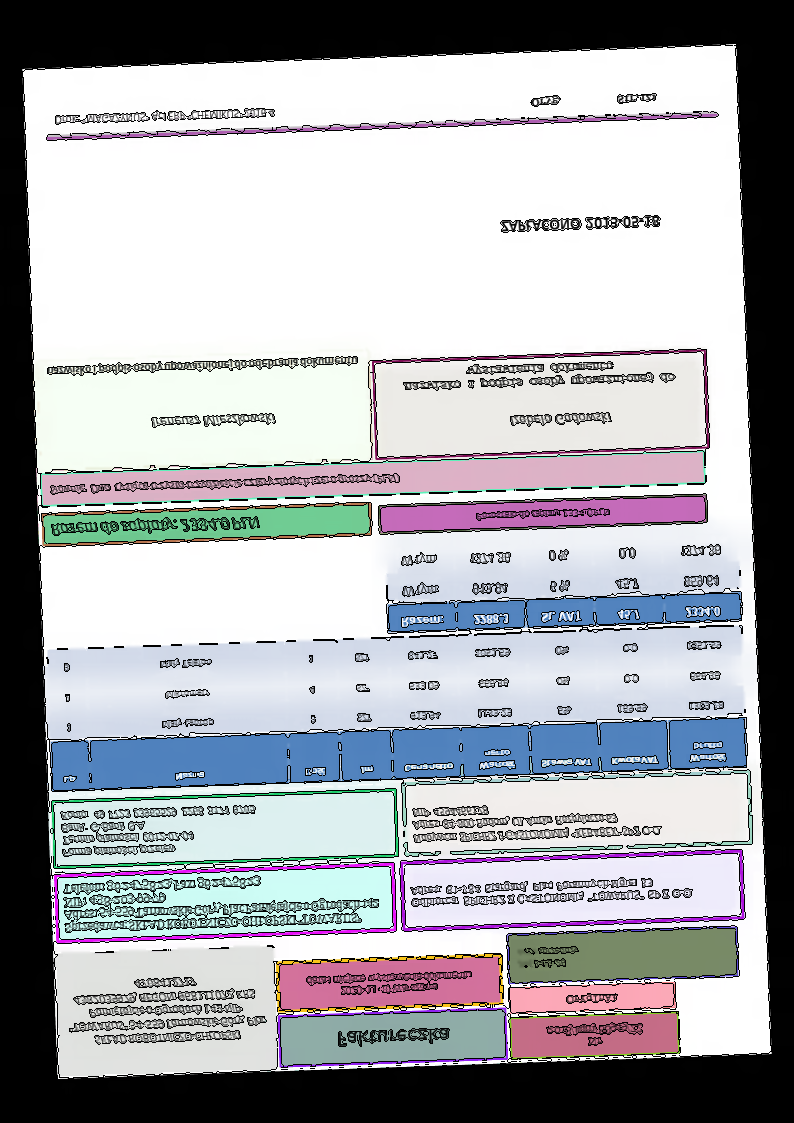Table: (45, 625, 749, 793), (383, 528, 744, 634)
TextBox: (61, 870, 384, 937), (65, 970, 271, 1049), (410, 797, 666, 847), (58, 802, 260, 861), (406, 873, 697, 912), (400, 357, 678, 395), (48, 470, 401, 498), (44, 353, 360, 382), (48, 512, 262, 542), (53, 102, 275, 129), (303, 968, 475, 998), (496, 212, 665, 237), (544, 1018, 645, 1051), (148, 409, 277, 434), (335, 1025, 451, 1049), (528, 90, 660, 111), (473, 506, 614, 525), (507, 408, 615, 432), (514, 941, 581, 971), (563, 989, 619, 1007)
